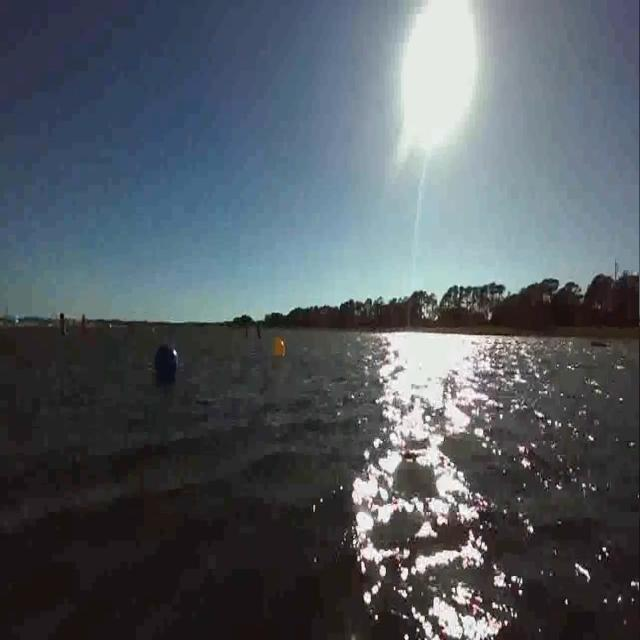blue-buoy: (154, 341, 180, 382)
yellow-buoy: (274, 335, 287, 359)
